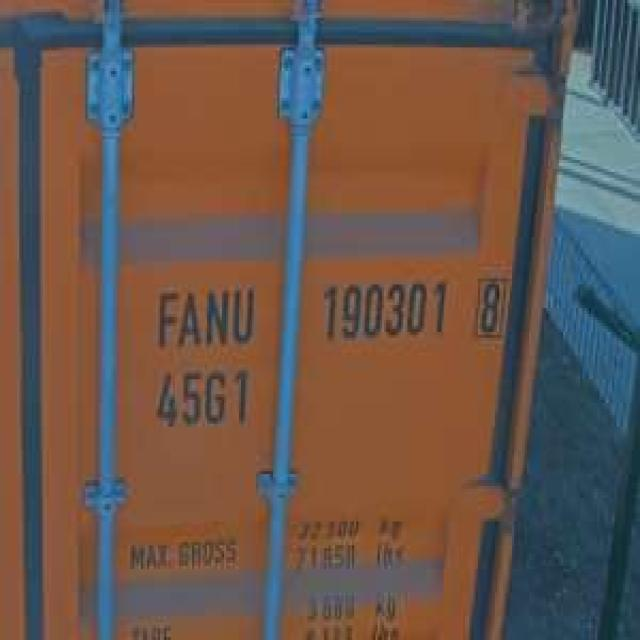dv: (471, 270, 510, 340)
owner: (149, 278, 256, 349)
serial: (318, 270, 450, 346)
size: (147, 358, 254, 432)
